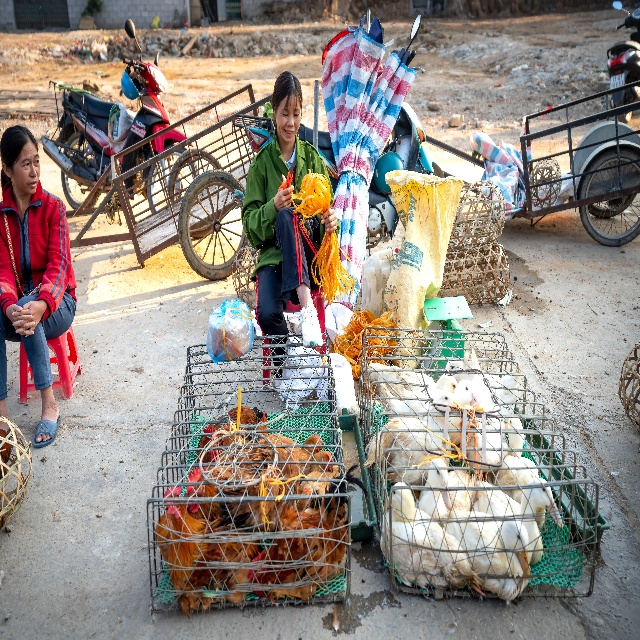Sin_guantes: (12, 300, 45, 337), (7, 304, 35, 337), (274, 174, 294, 212), (320, 207, 338, 232)
